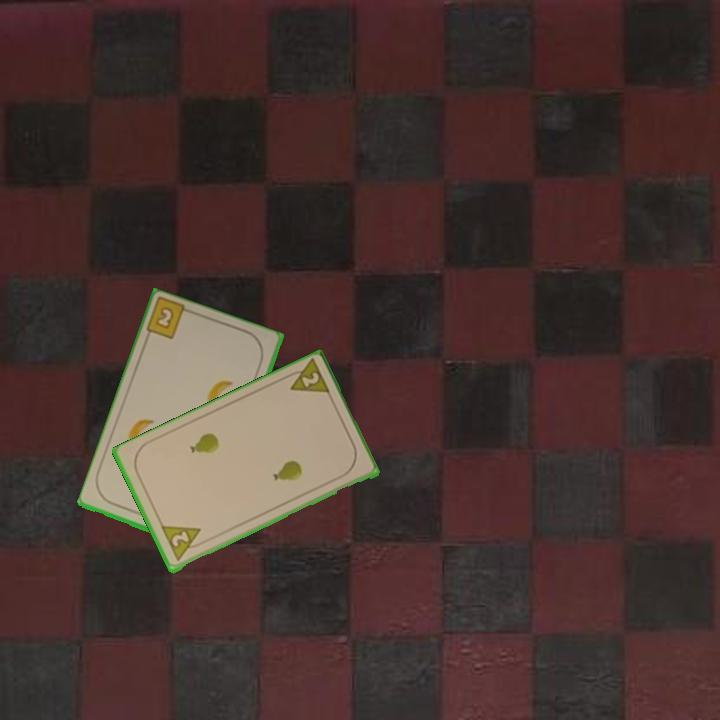2b: (152, 303, 177, 332)
2p: (280, 357, 333, 399), (158, 522, 208, 564)
